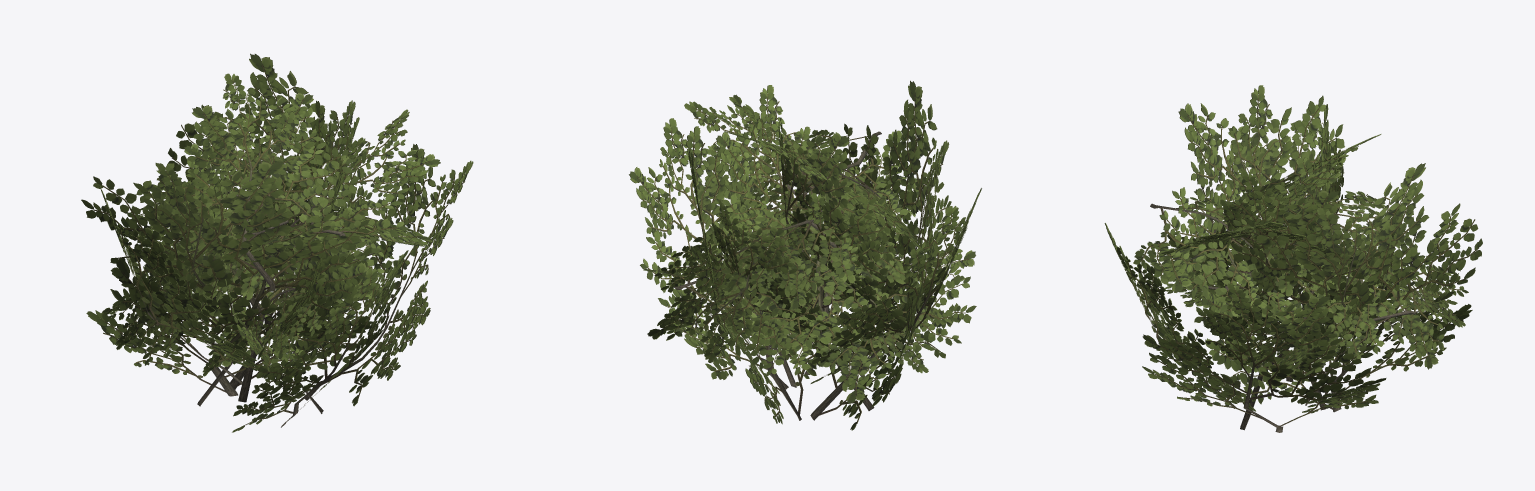
File: bush4.fbx
3 renders of one model, left to right at view 1: azimuth 30°, elevation 25°; view 2: azimuth 150°, elevation 25°; view 3: azimuth 270°, elevation 25°, orthographic. The views are drawn at different scales.
Visible parts, largest first — view 1: Bush-01; view 2: Bush-01; view 3: Bush-01.
Boxes of the visible parts, bbox=[...] form: Bush-01: bbox=[81, 53, 473, 432]; Bush-01: bbox=[629, 80, 981, 430]; Bush-01: bbox=[1104, 85, 1482, 432].
Size of the model in its own units: 125 by 88.57 by 120.
